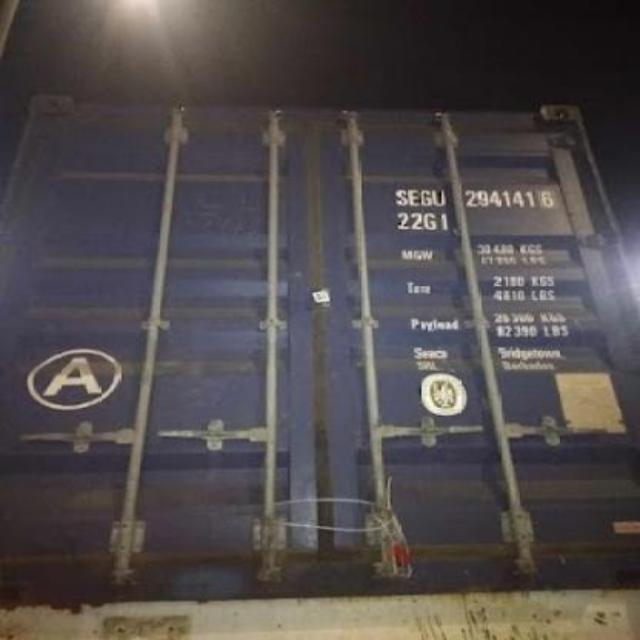1: (524, 187, 538, 211), (502, 188, 514, 212)
2: (462, 186, 478, 208)
4: (512, 187, 528, 210), (488, 186, 502, 210)
6: (538, 186, 560, 210)
9: (476, 186, 489, 210)
E: (408, 188, 420, 208)
G: (420, 184, 432, 208)
S: (396, 186, 408, 207)
U: (432, 188, 448, 208)
